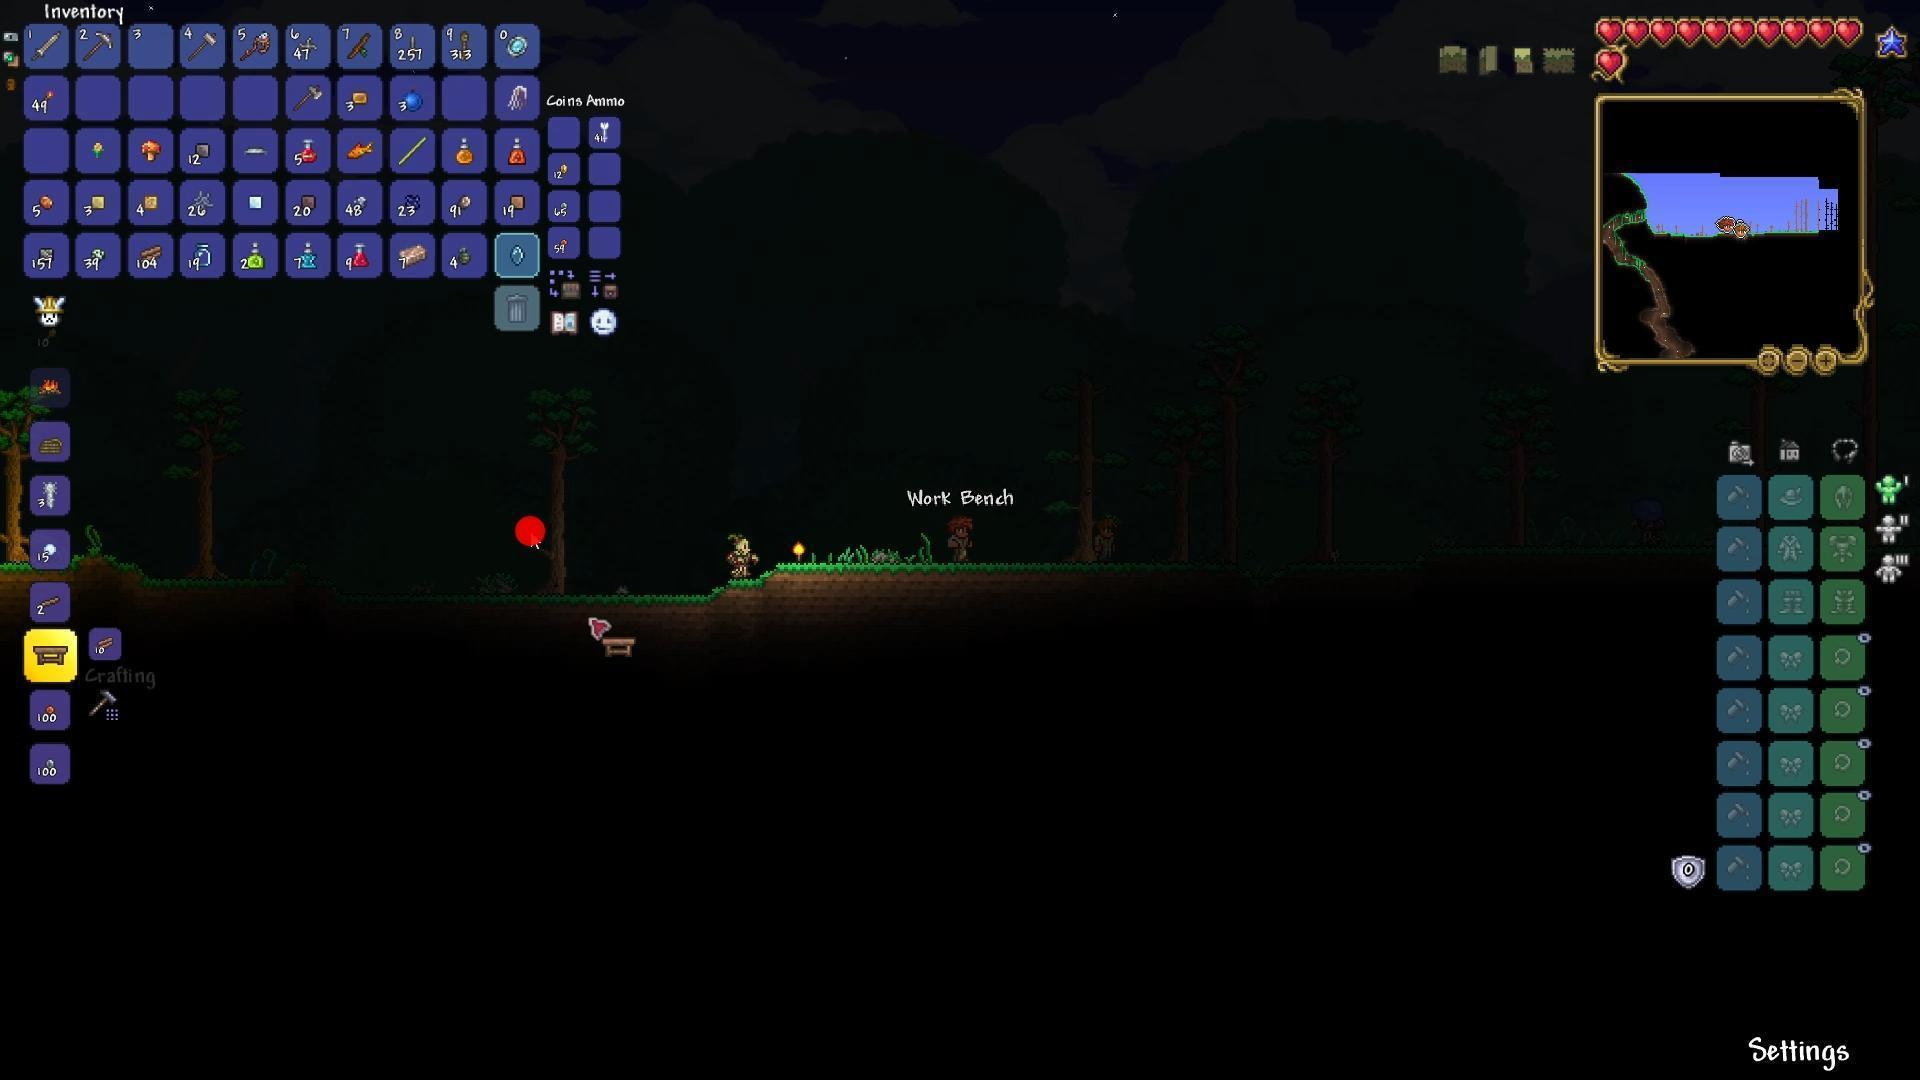bar: (382, 232, 435, 291)
cobwebI: (191, 185, 215, 216)
grenade: (436, 232, 497, 285)
knife: (384, 18, 439, 66)
lens: (504, 243, 530, 268)
mirror: (491, 22, 547, 75)
ore: (74, 225, 127, 287), (20, 177, 75, 229), (331, 175, 386, 223)
pickaxe: (73, 18, 125, 76)
potion: (332, 225, 390, 284), (281, 125, 331, 177)
rope: (438, 21, 491, 71)
shuriken: (285, 17, 332, 70)
wood: (140, 244, 165, 262)
workbench: (29, 638, 71, 673)
zombie: (716, 525, 766, 588)
